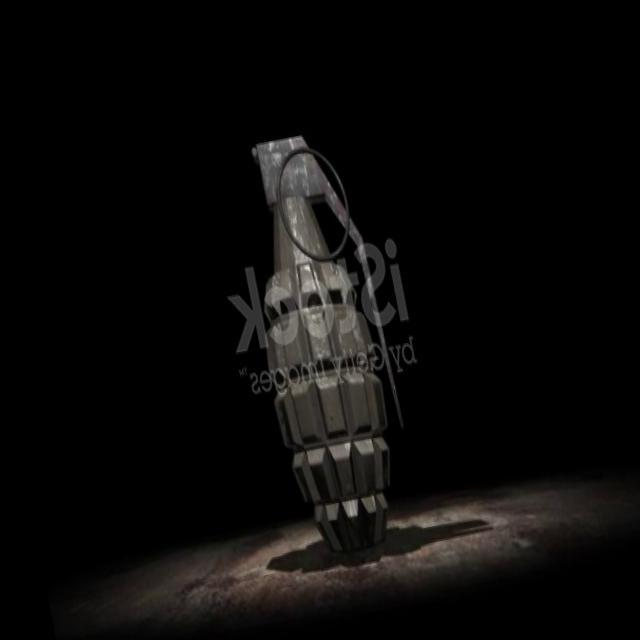grenade: (228, 129, 420, 556)
